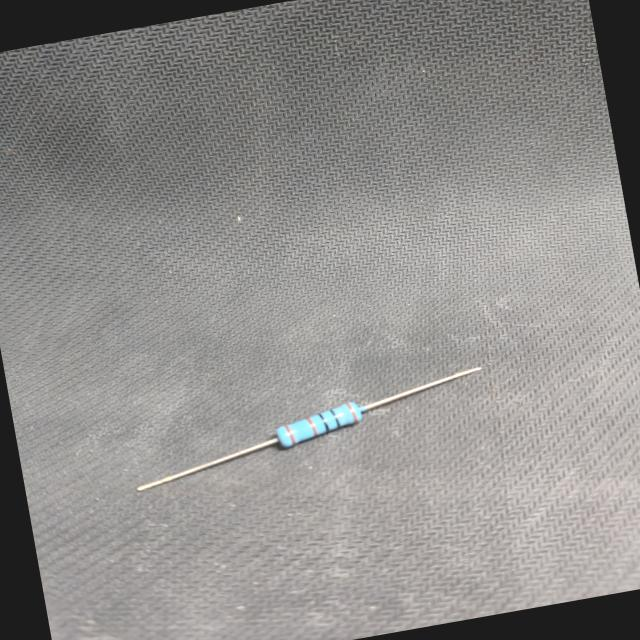resistor: (114, 352, 504, 512)
